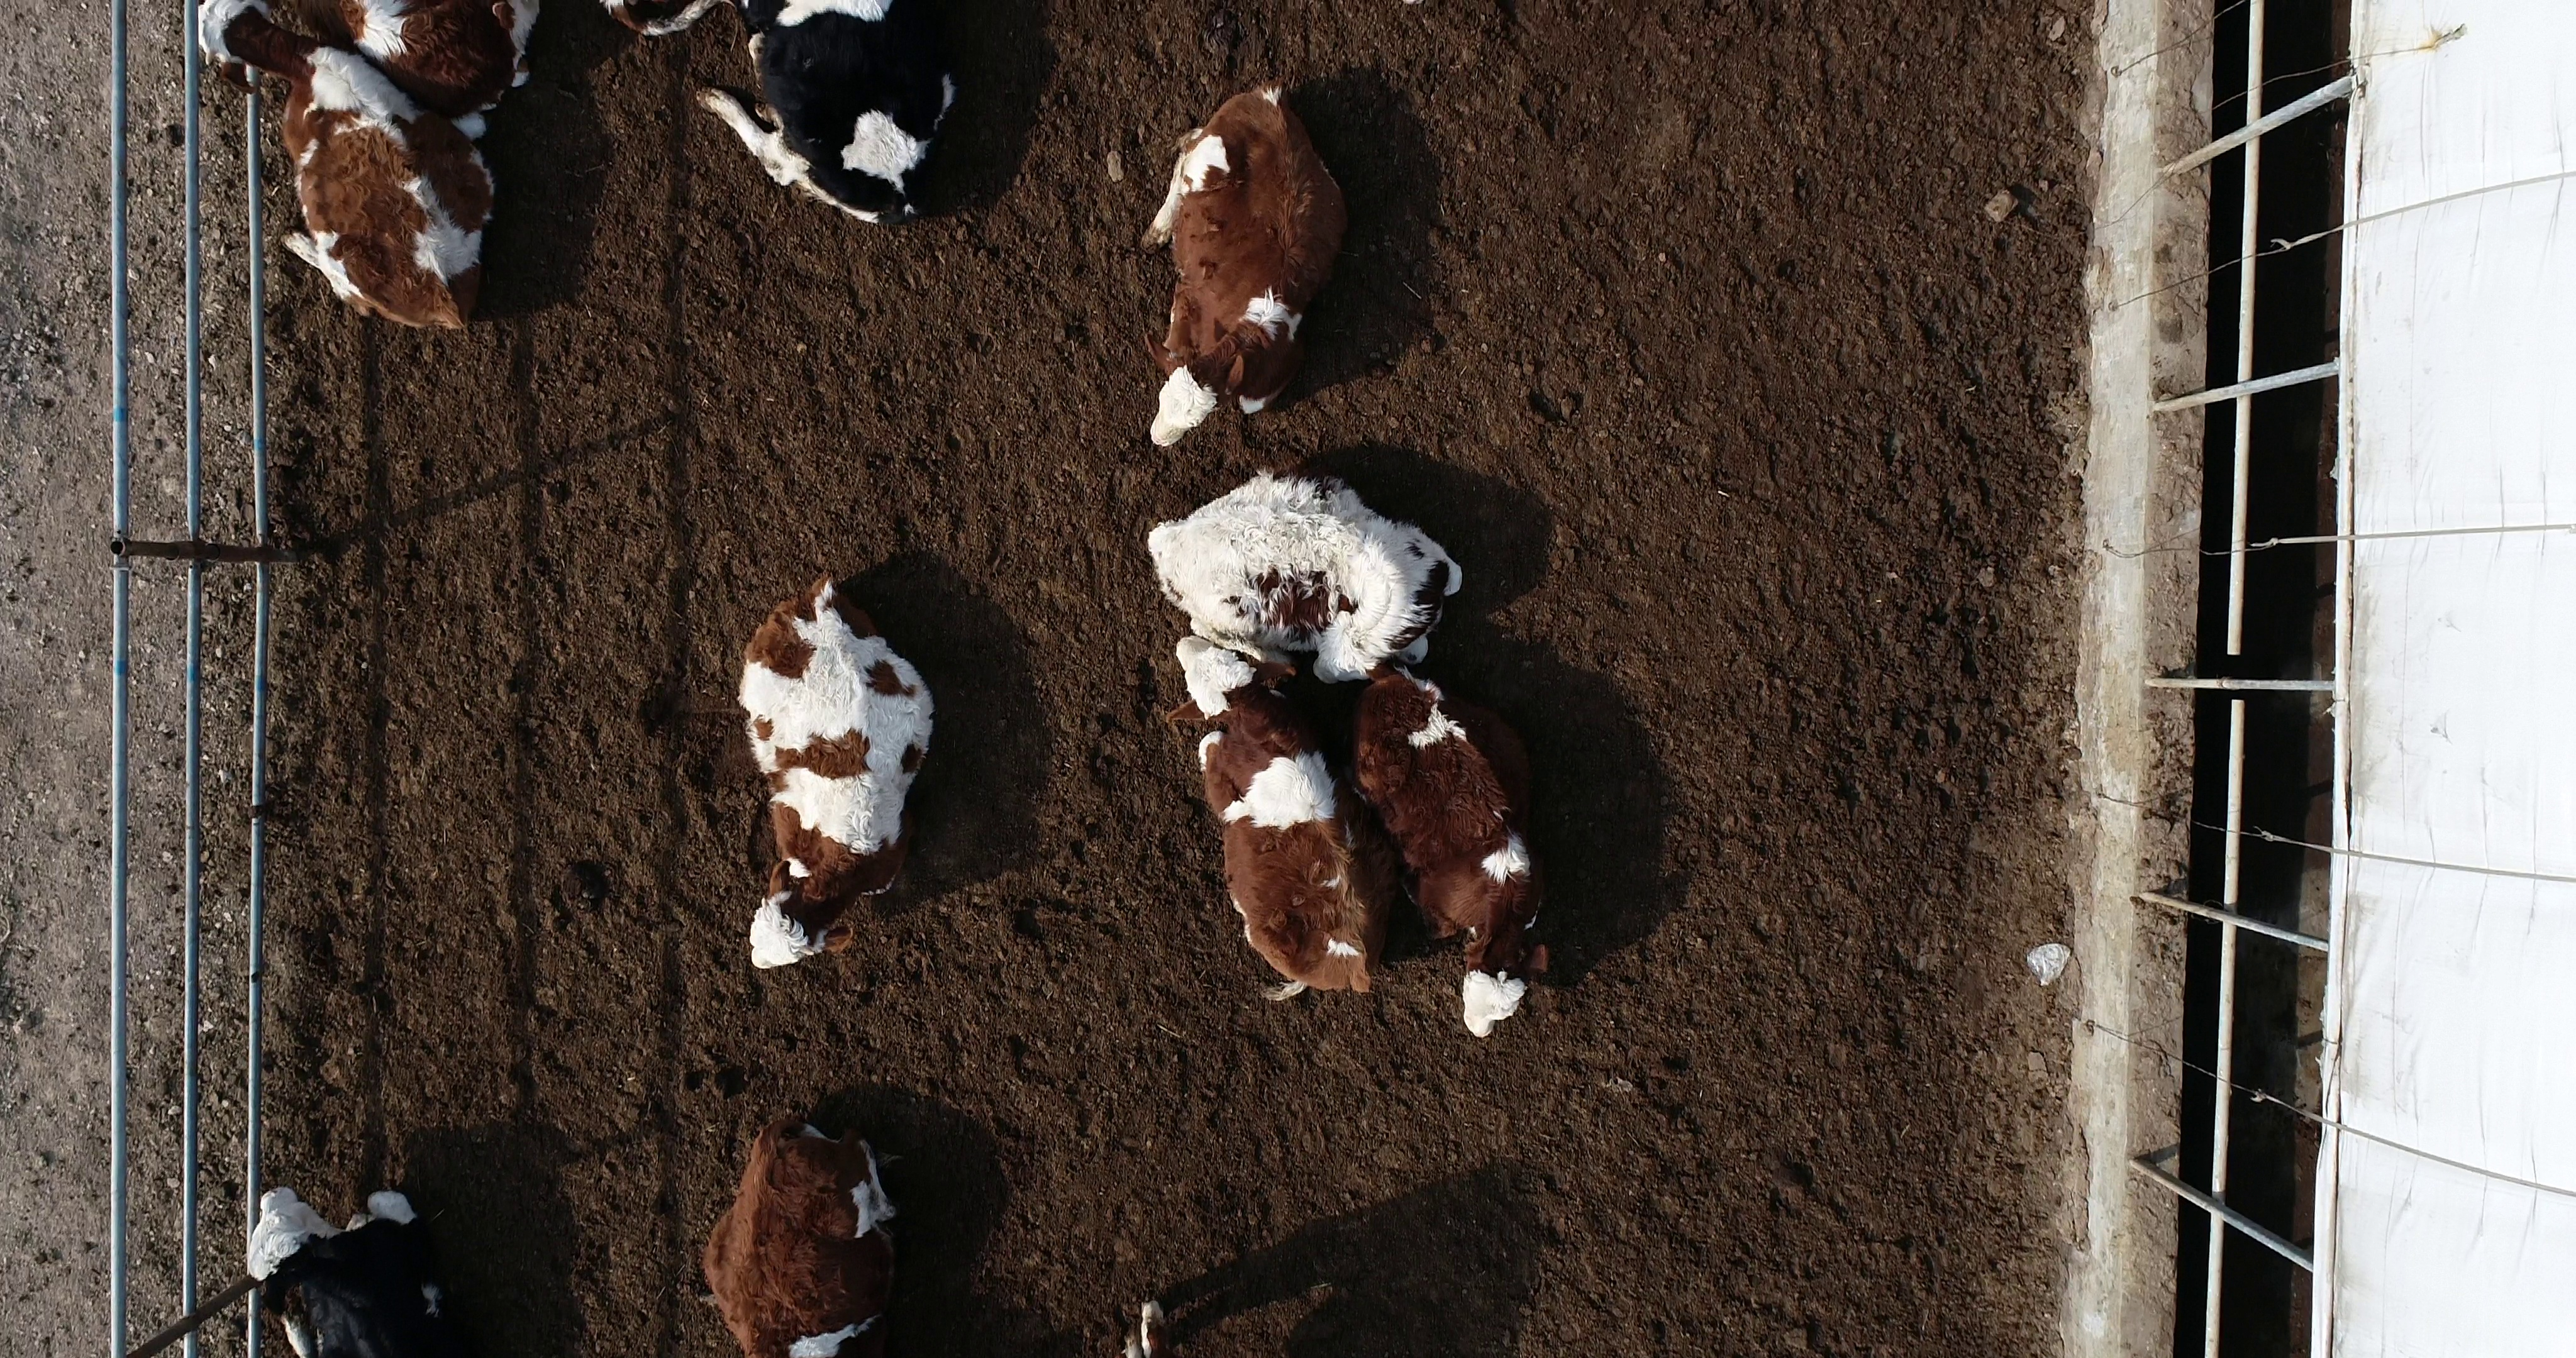cattle: (733, 564, 940, 976), (1133, 82, 1353, 452)
